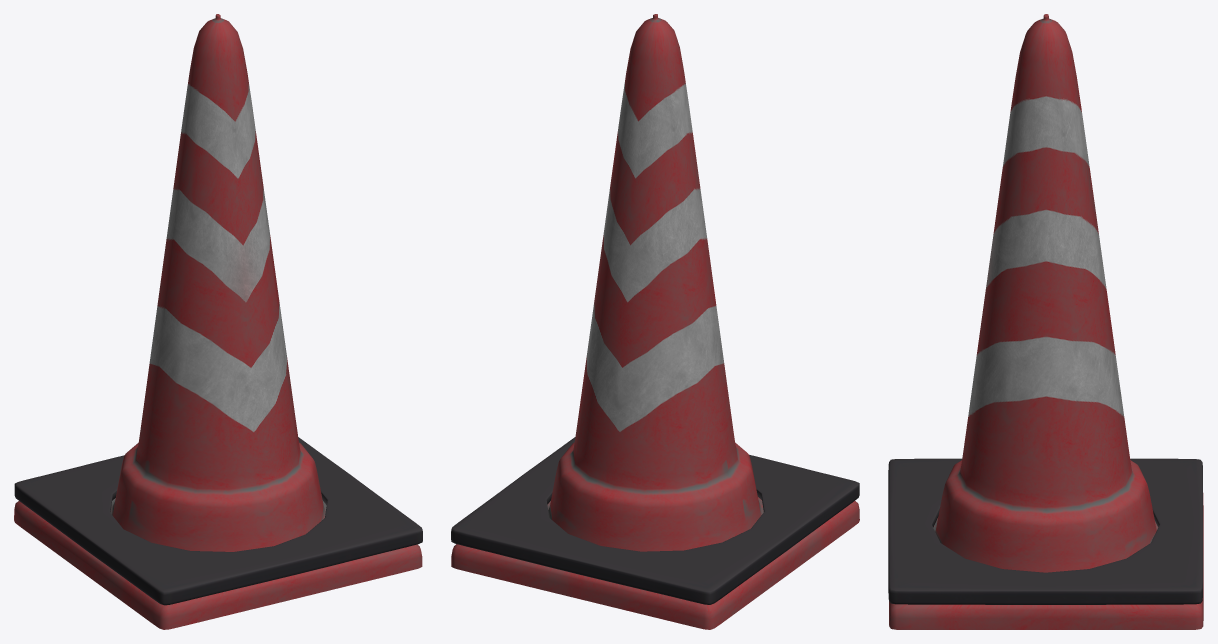
The model's file is ColorCone_Scotch_Dirty_Red.fbx.
The picture shows the model from 3 angles, left to right: view 1: azimuth 30°, elevation 25°; view 2: azimuth 150°, elevation 25°; view 3: azimuth 270°, elevation 25°; orthographic projection. The views are drawn at different scales.
Parts seen in each view (by area): view 1: ColorCone_Scotch_Dirty_Red; view 2: ColorCone_Scotch_Dirty_Red; view 3: ColorCone_Scotch_Dirty_Red.
Boxes of the visible parts, box(x1,y1,x2,y2) form: ColorCone_Scotch_Dirty_Red: box(14, 14, 422, 629); ColorCone_Scotch_Dirty_Red: box(451, 14, 859, 629); ColorCone_Scotch_Dirty_Red: box(888, 14, 1203, 629).
Bounding box in the file's own units: 38.04 × 38.06 × 73.14.
Materials: 1 (1 with a texture image).
